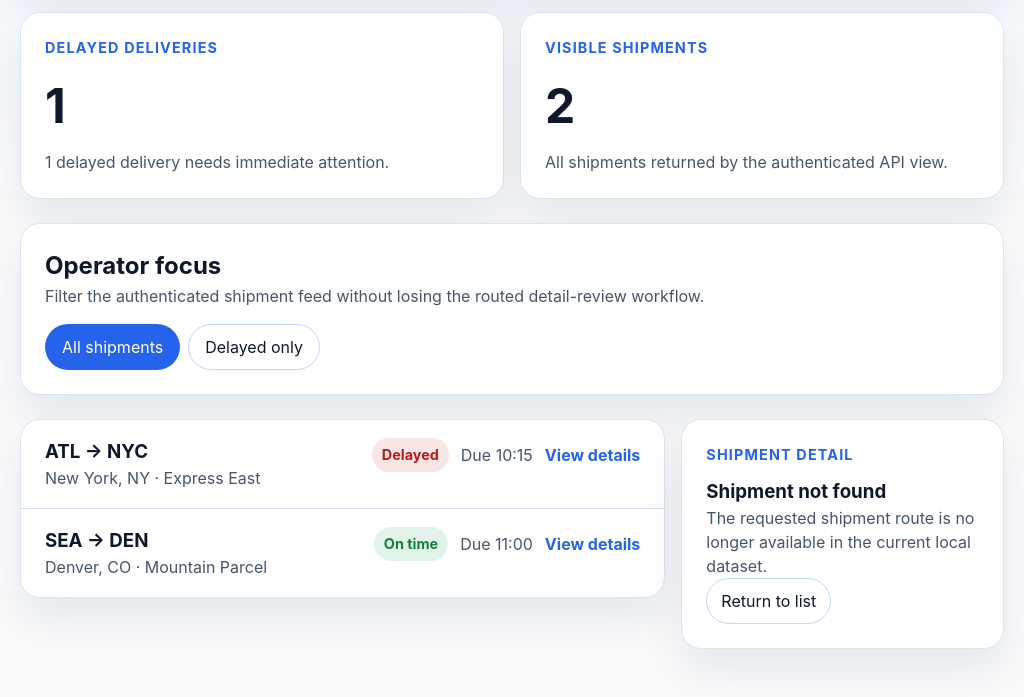
Scenario: Wave 6 dashboard routing › shows a not-found detail state for an unknown routed shipment
(page scrolled)
Expected: the heading "Shipment not found" is shown, [706,480,886,503]
Step 1. Click the button "Return to list" → (769,601), box [706,578,831,624]
(page scrolled)
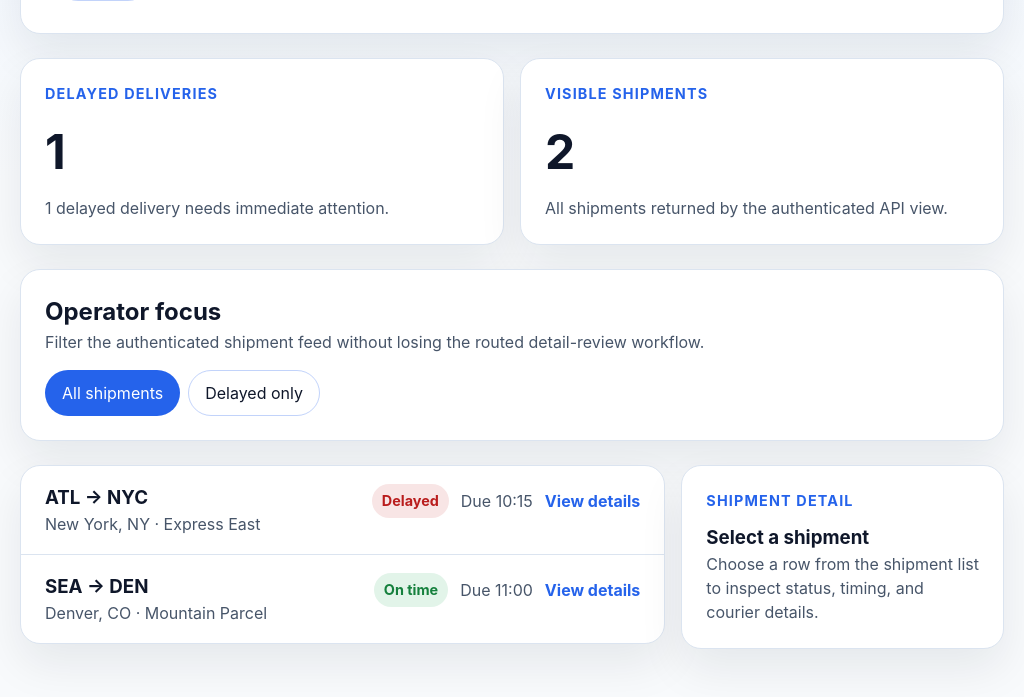
Expected: the heading "Select a shipment" is shown, [706,526,869,549]
